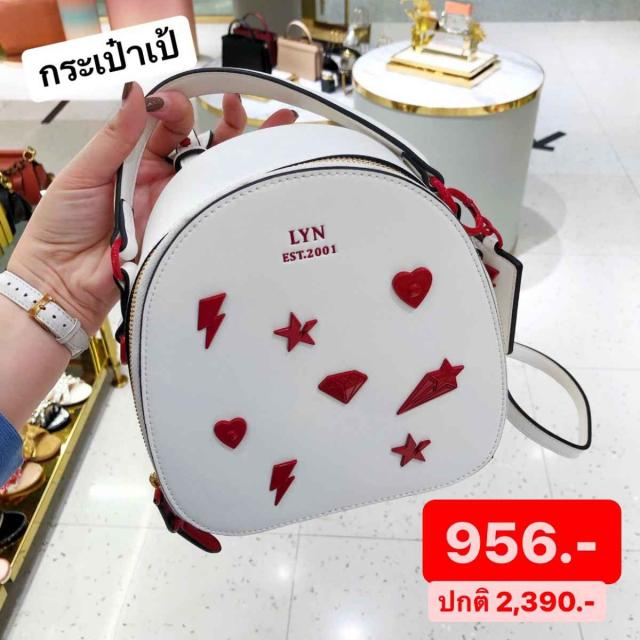handbag: (75, 73, 524, 539)
